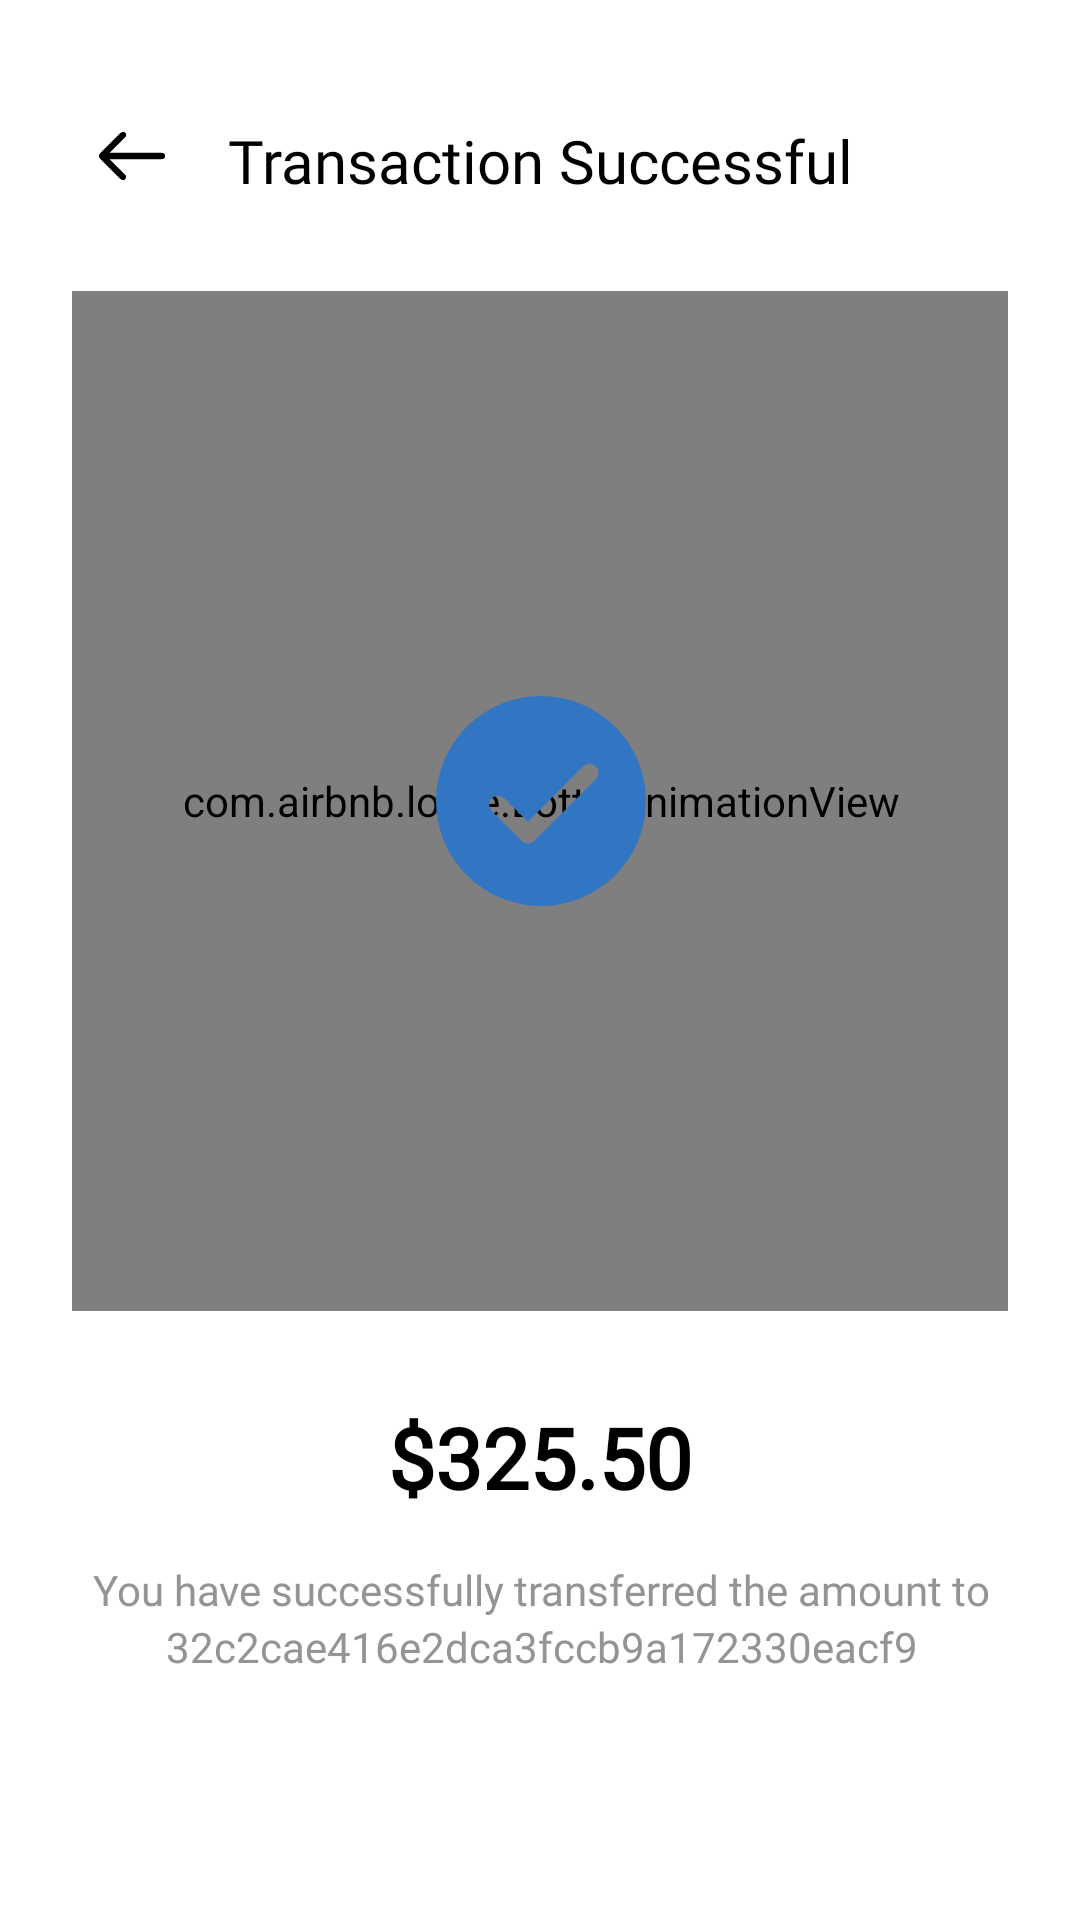

Icon click points for this 1080 × 1920 phone screenshot, format (x,y):
back: (132,156)
success: (541,801)
